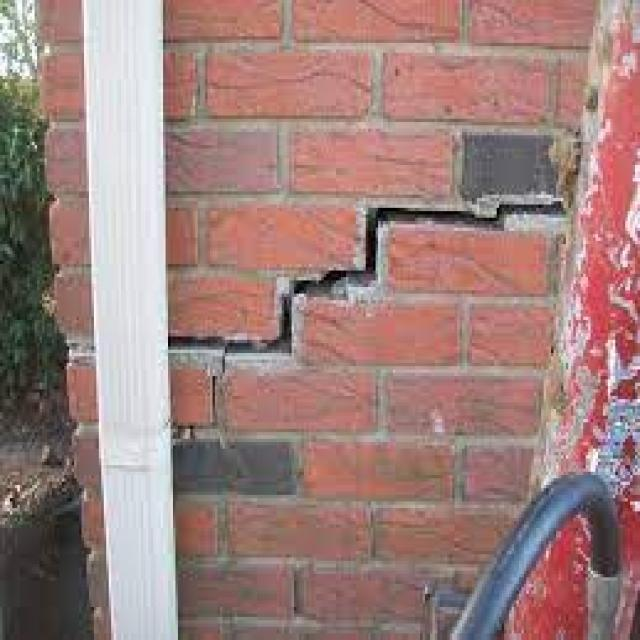Crack: (170, 191, 566, 429)
